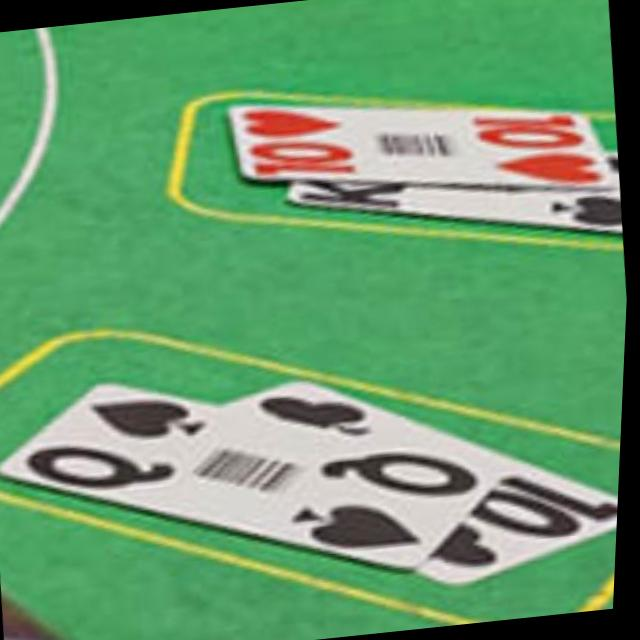Card-10: (222, 378, 623, 584), (230, 107, 614, 183)
Card-K: (290, 152, 623, 232)
Card-Q: (0, 382, 502, 569)
